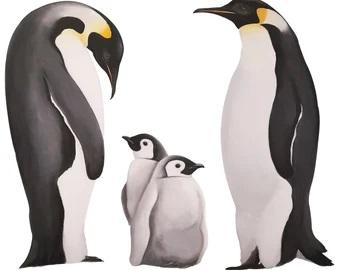emporer: (190, 1, 335, 268), (1, 1, 131, 267)
